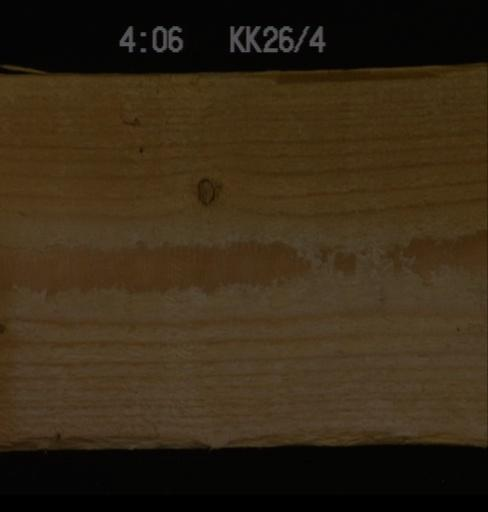dry_knot: (192, 174, 216, 203)
wave: (0, 413, 486, 448), (264, 63, 486, 88)
